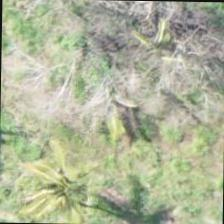Kelapa_Sawit: (25, 148, 117, 223)
